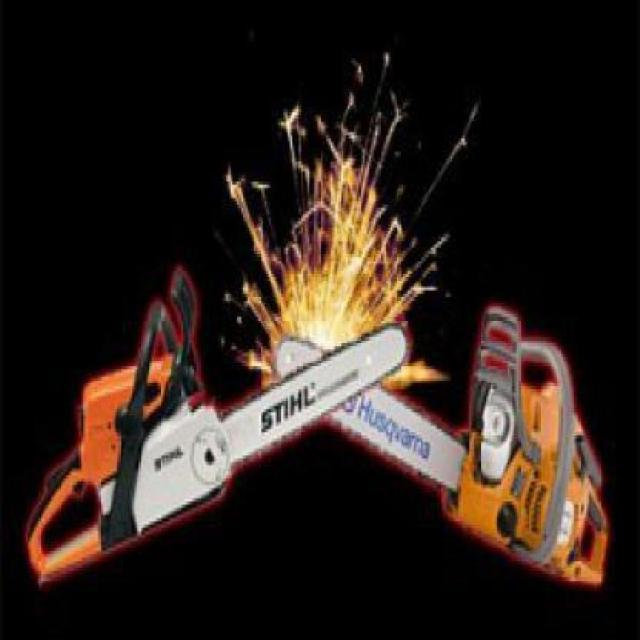Chainsaw: (28, 270, 409, 588), (266, 287, 611, 584)
